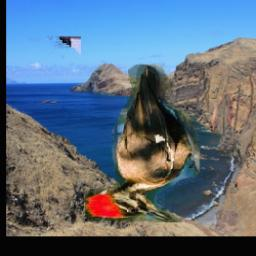Crow: (44, 37, 80, 130)
Woodpecker: (85, 65, 204, 223)
